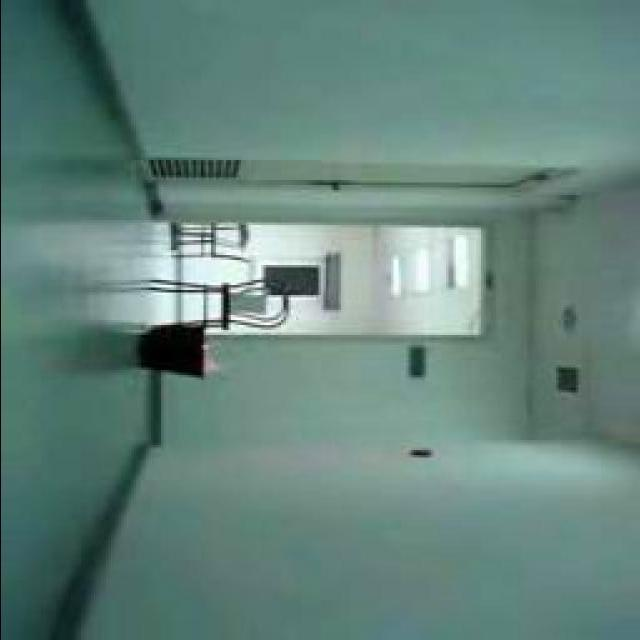Fire: (203, 358, 221, 374), (204, 344, 211, 352)
